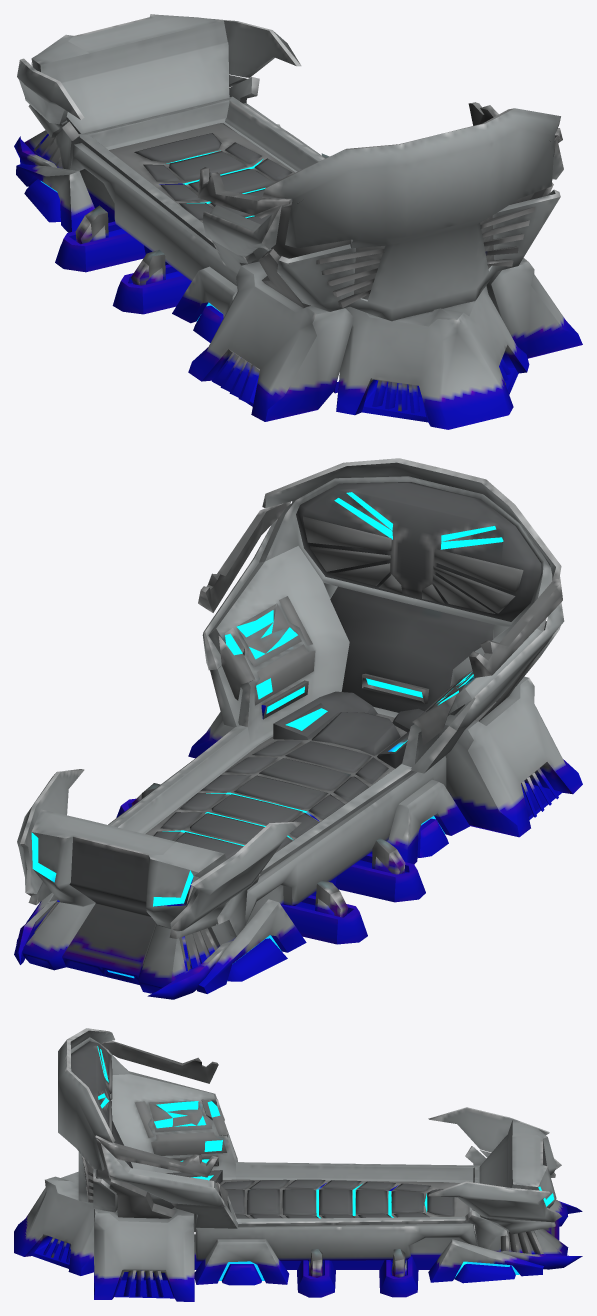
The model's file is TekBed_Standing_C.glb.
3 views of the same model, one above another, from view 1: azimuth 30°, elevation 25°; view 2: azimuth 150°, elevation 25°; view 3: azimuth 270°, elevation 25° (orthographic). The views are drawn at different scales.
Parts seen in each view (by area): view 1: SM_GEO_root; view 2: SM_GEO_root; view 3: SM_GEO_root.
Boxes of the visible parts, box(x1,y1,x2,y2) form: SM_GEO_root: box(14, 14, 582, 429); SM_GEO_root: box(14, 458, 582, 999); SM_GEO_root: box(14, 1028, 582, 1301).
Bounding box in the file's own units: 1.61 × 1.23 × 3.33.
1 material, 1 textured.
